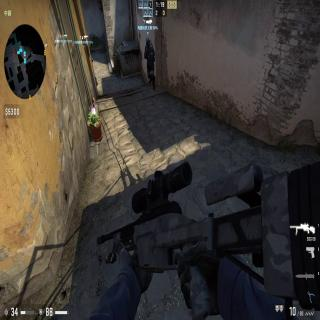CT-Body: (144, 36, 156, 89)
CT-Head: (146, 37, 150, 47)
